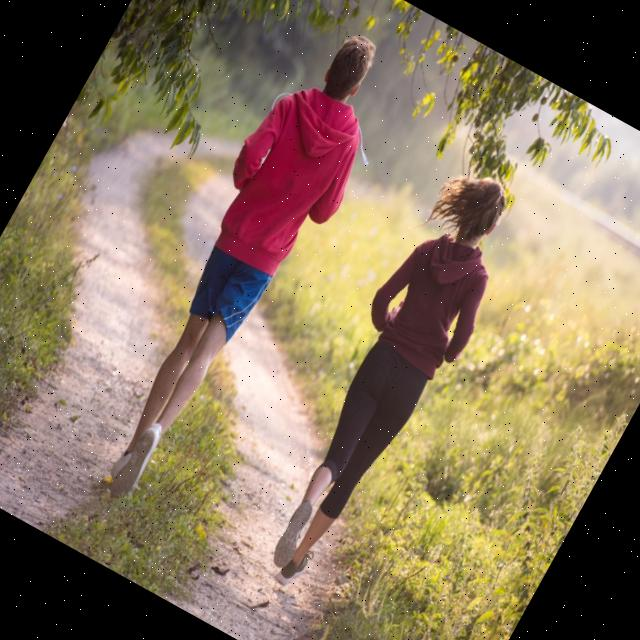Person: (61, 11, 416, 526), (228, 157, 544, 610)
